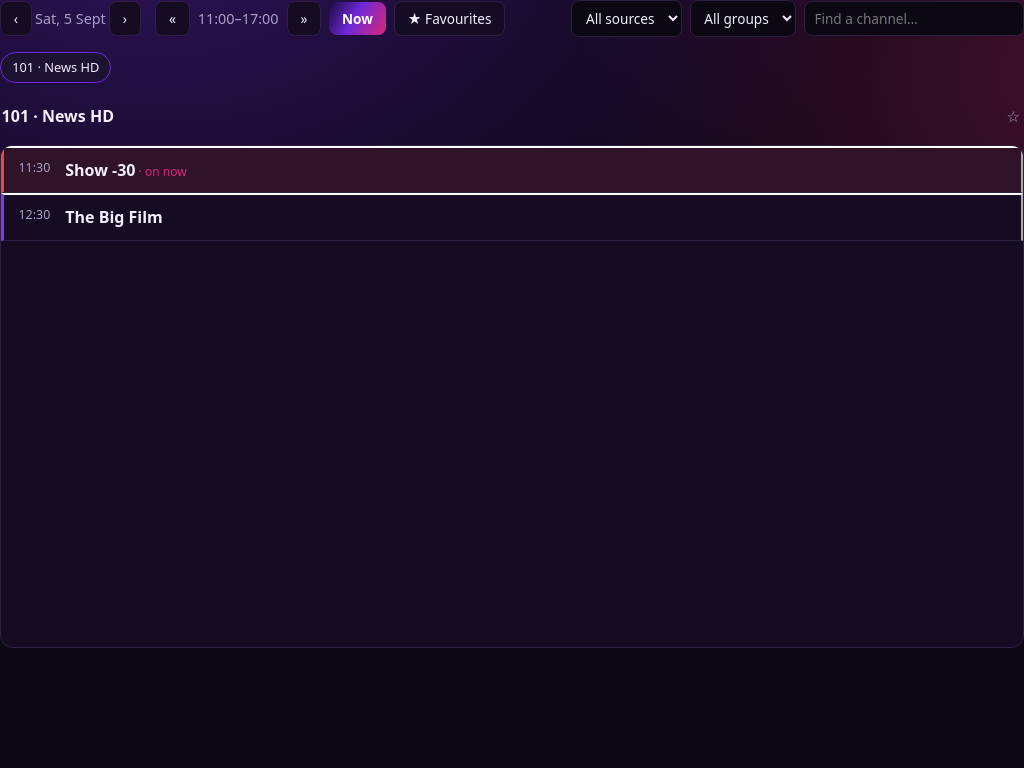
Test: mobile: the agenda lists programmes and a tap opens the detail sheet
What coordinates should you click on to do the following:
click the text "The Big Film"
I would click on:
 (114, 218)
Its box is [65, 206, 163, 228].
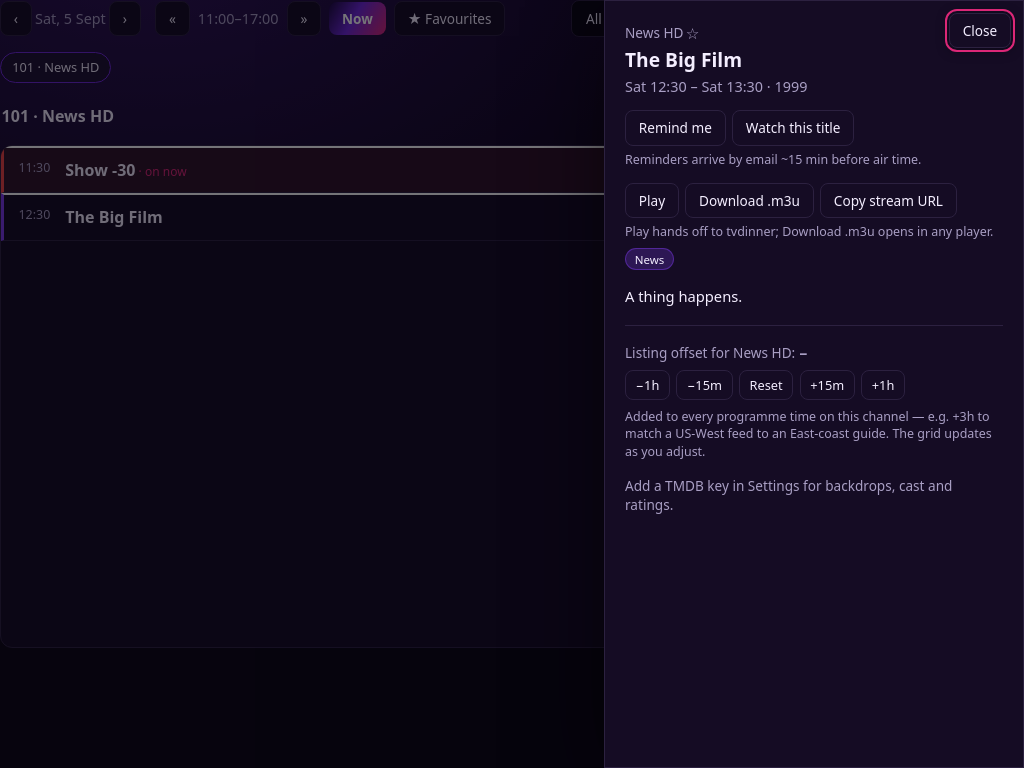
Expected: the text "A thing happens." is shown, [625, 286, 742, 306]
Expected: the text "1999" is shown, [763, 77, 807, 96]
